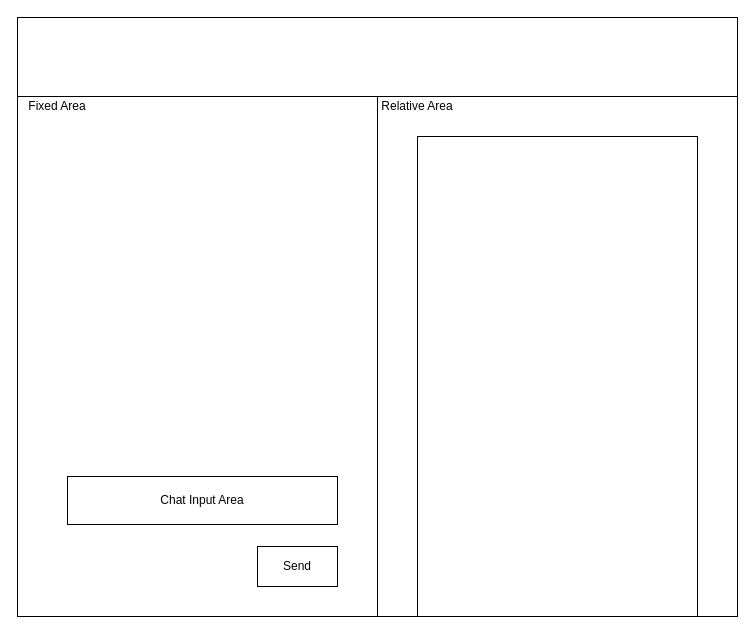
This 755x634 diagram has some shape labels left out. The centre of each missing label's shape, as x and y in pixels:
Navigation Bar: (x=377, y=56)
Text Viewer: (x=557, y=376)
